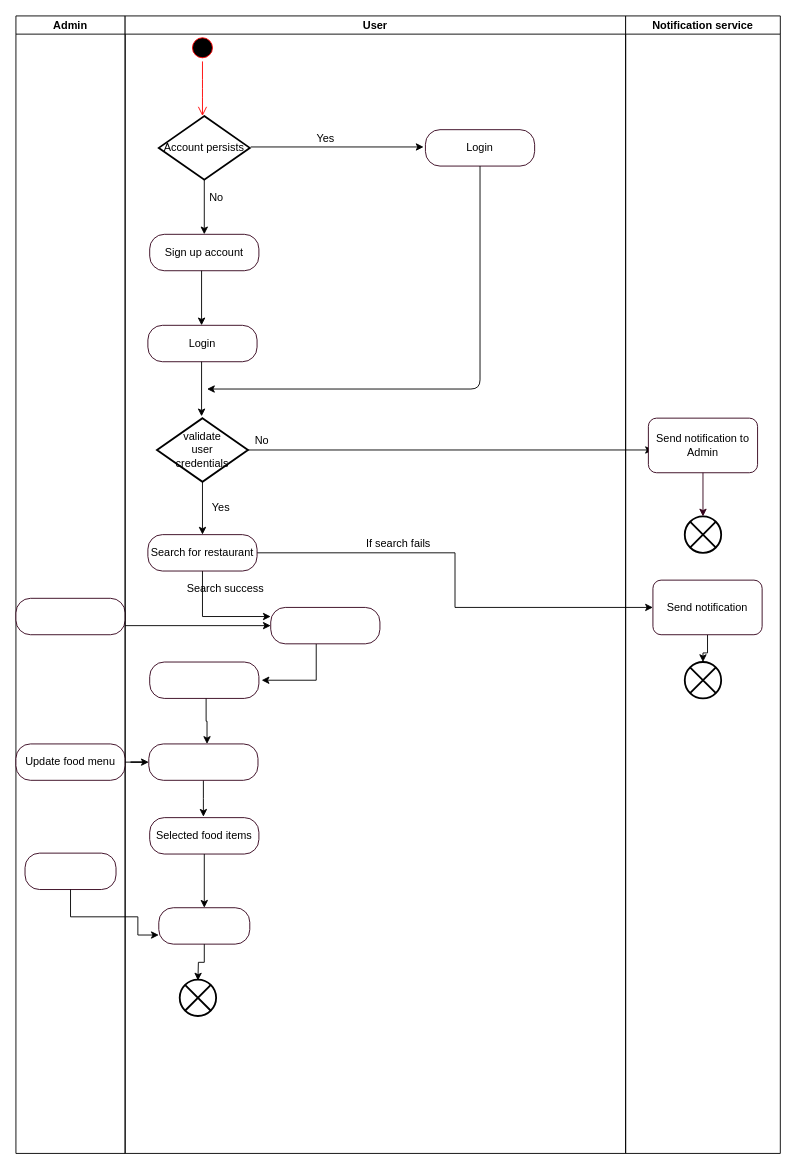
Some shapes in this 796 by 1169 pixel diagram are drawn without their labels. The shapes that lost their labels are listed below. From the top down, each one's centre as x and y in pixels, then its label:
At (x=70, y=616): "update restaurant information".
At (x=325, y=625): "Show Restaurant info".
At (x=204, y=679): "Food Menu".
At (x=203, y=761): "Show food menu".
At (x=70, y=871): "update food bill".
At (x=204, y=925): "View total bill".
